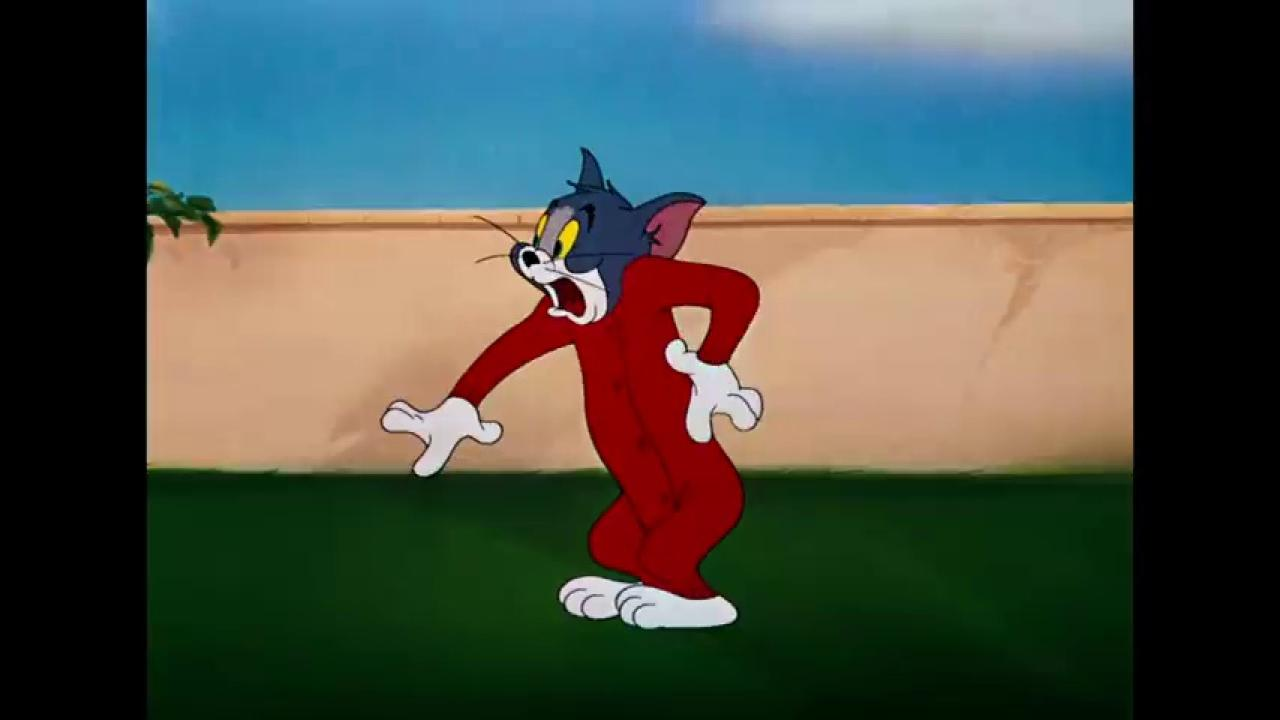Tom: (379, 142, 765, 630)
